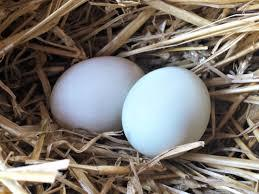egg: (122, 64, 212, 158), (55, 54, 144, 135)
